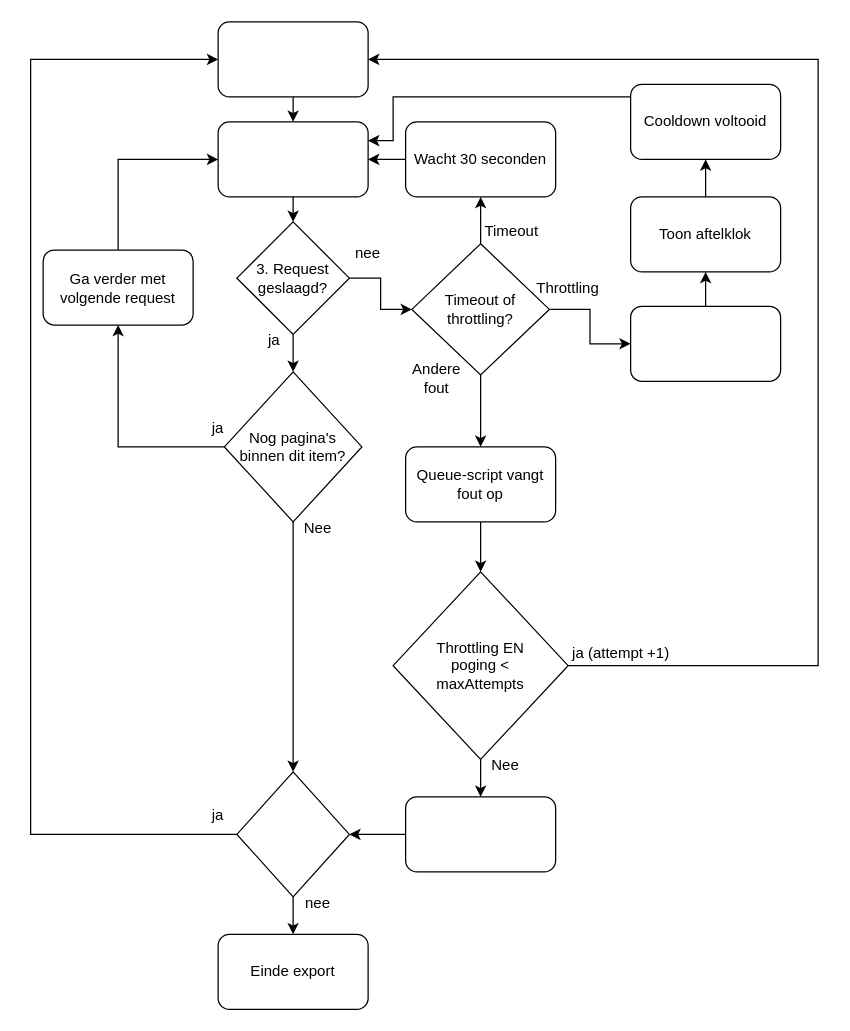
The diagram is 850 pixels wide and 1031 high, and some of its shapes have lost their labels. The centre of each missing label's shape, as x and y in pixels:
"Cooldown 30 min" goes at (x=705, y=343).
"Markeer item als mislukt" goes at (x=480, y=834).
"Nog queue-items?" goes at (x=292, y=834).
"Start export huidig queue-item" goes at (x=292, y=59).
"Voer Graph-request uit" goes at (x=292, y=159).
